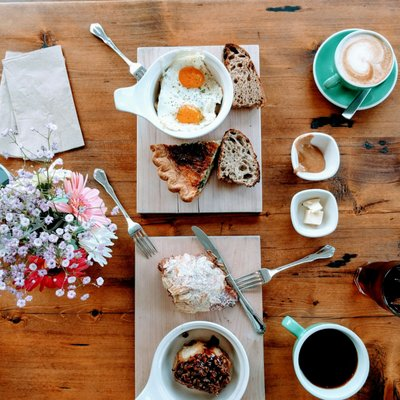pizza: (280, 316, 371, 400), (290, 132, 340, 181)
salad: (93, 168, 158, 259), (234, 244, 332, 291), (90, 23, 147, 81), (310, 89, 369, 128)
sandwich: (191, 225, 264, 333)
sushi: (114, 50, 235, 139), (136, 321, 250, 400)
